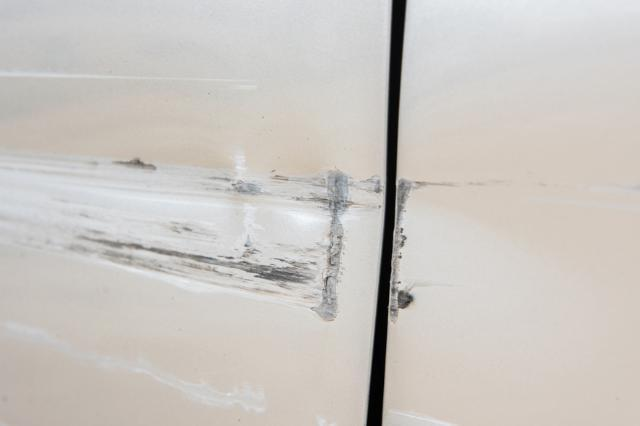Door: (4, 92, 377, 366), (394, 172, 508, 329)
